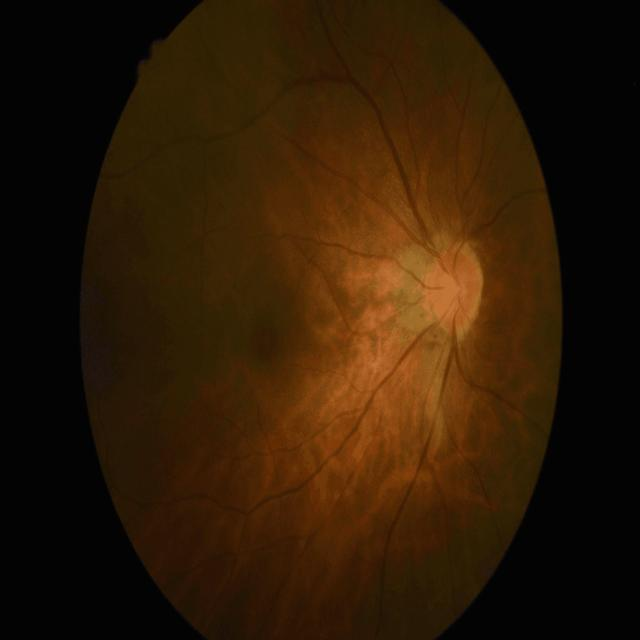cup: (442, 274, 462, 308)
disk: (426, 240, 484, 340)
